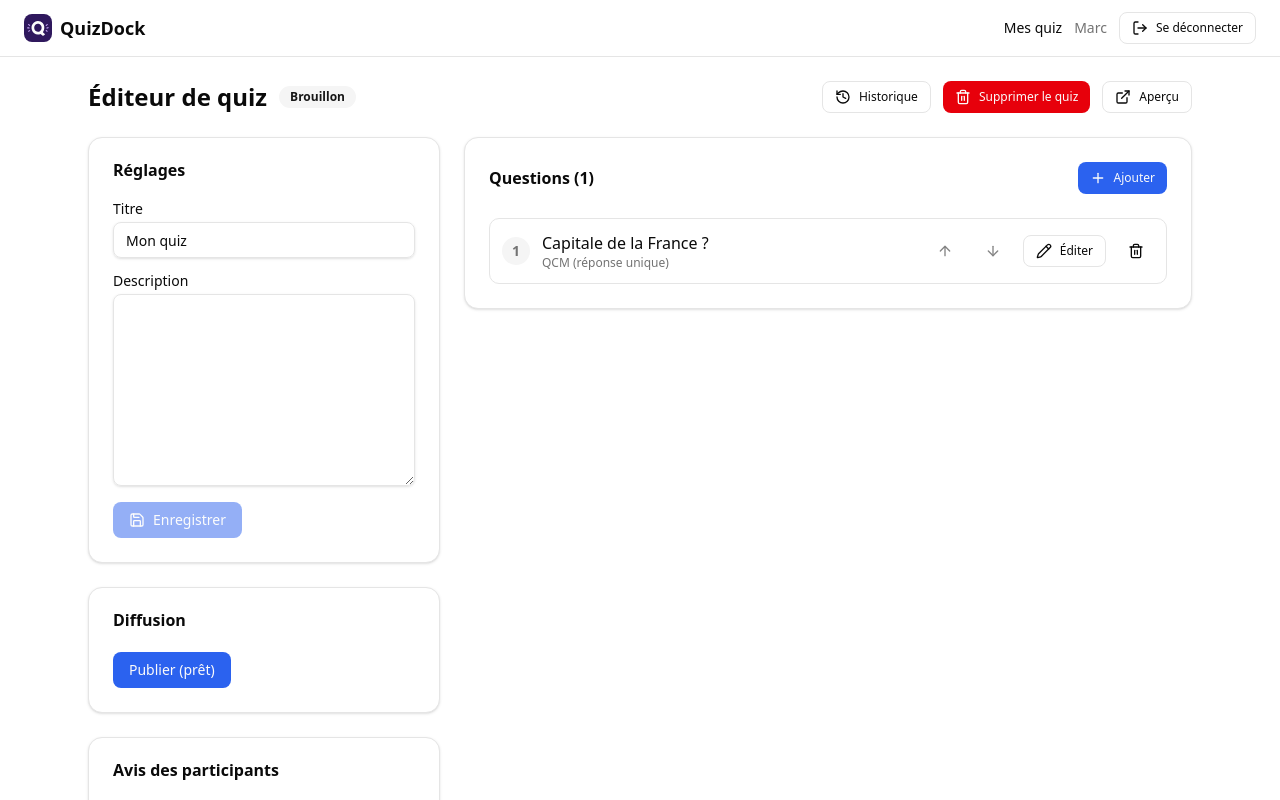
Test: EditorPage › « Enregistrer » est inactif sans modification, actif dès qu’on édite
Check: the button "Enregistrer" is disabled, box [113,502,242,538]
Replace the text in the field showing "Mon quiz" with "Mon quiz révisé" at (264, 240), box [113,222,415,258]
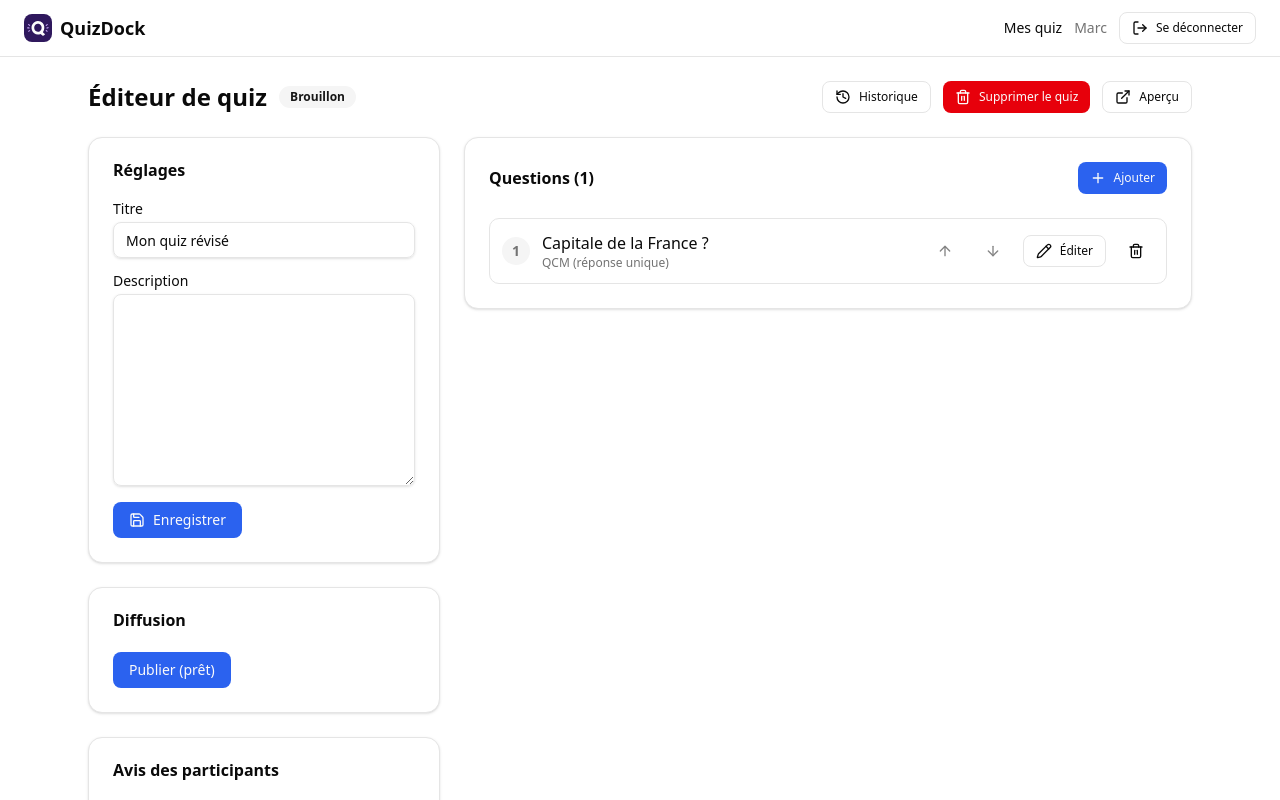
Check: the button "Enregistrer" is enabled, box [113,502,242,538]
